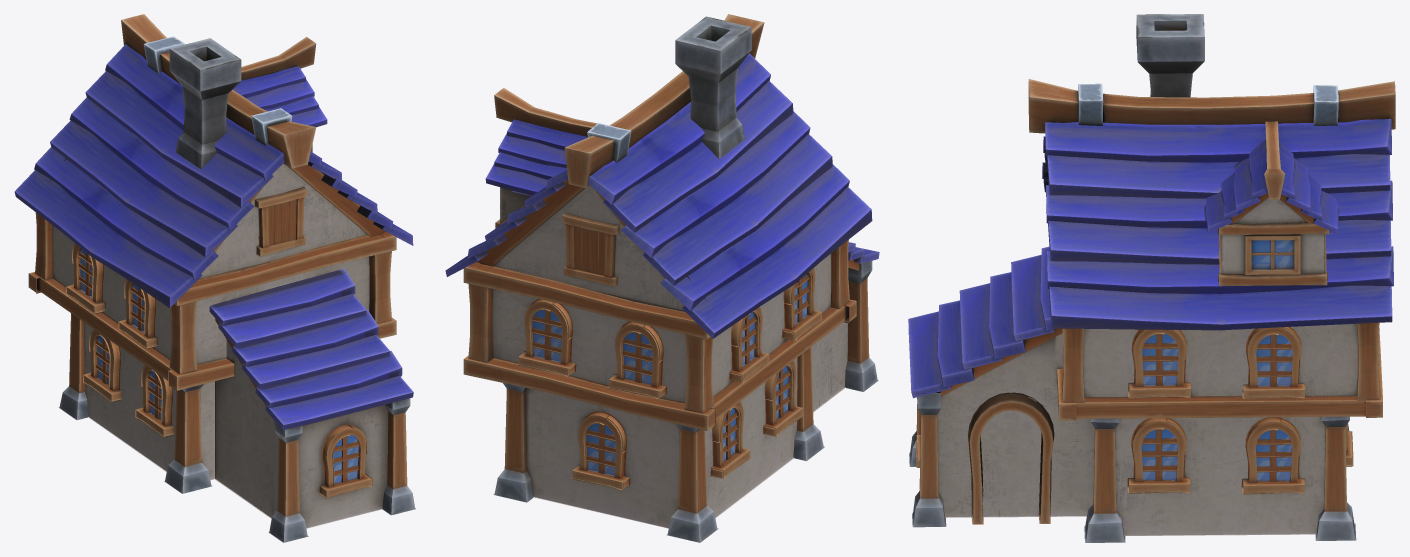
File: House2.fbx
3 views of the same model, side by side, from view 1: azimuth 30°, elevation 25°; view 2: azimuth 150°, elevation 25°; view 3: azimuth 270°, elevation 25° (orthographic). The views are drawn at different scales.
Visible parts, largest first — view 1: House2; view 2: House2; view 3: House2.
Boxes of the visible parts, x1=… form: House2: x1=14, y1=14, x2=415, y2=542; House2: x1=445, y1=14, x2=879, y2=542; House2: x1=908, y1=14, x2=1395, y2=542.
Size of the model in its own units: 678 by 1019 by 1005.
